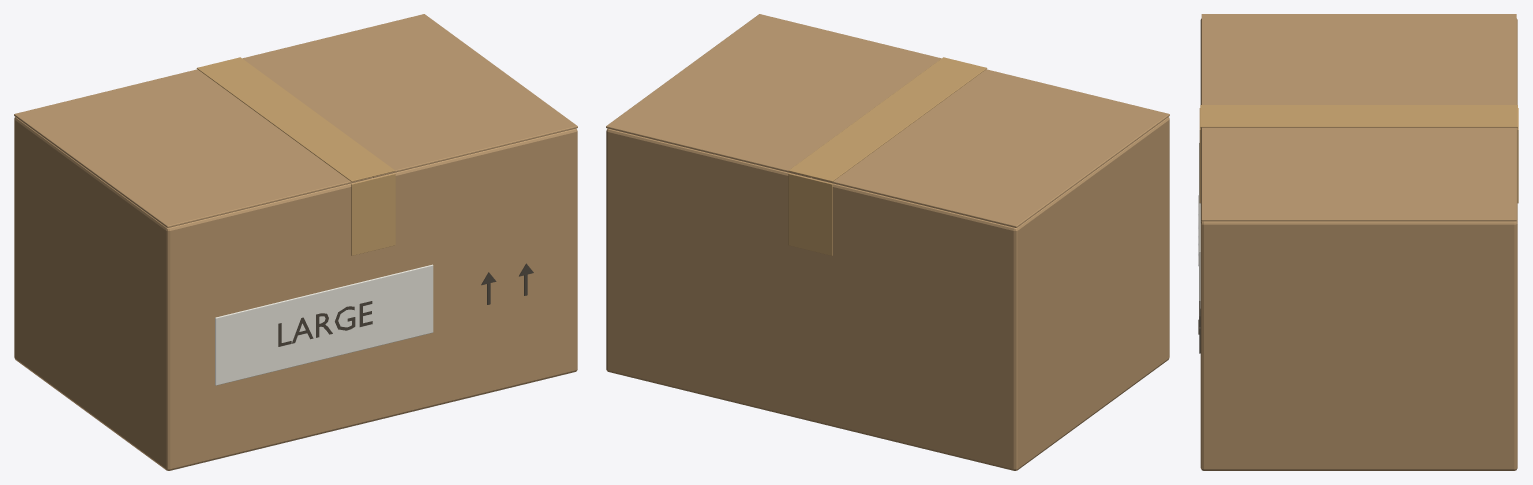
Rendered from box_large.glb.
3 views of the same model, side by side, from view 1: azimuth 30°, elevation 25°; view 2: azimuth 150°, elevation 25°; view 3: azimuth 270°, elevation 25° (orthographic). The views are drawn at different scales.
Parts seen in each view (by area): view 1: Large wide carton closed carton, Large wide carton top flap, Large wide carton top flap.001, Large wide carton shipping label, Large wide carton top tape, Large wide carton tape down side, Large wide carton size marking; view 2: Large wide carton closed carton, Large wide carton top flap, Large wide carton top flap.001, Large wide carton top tape, Large wide carton tape down side.001; view 3: Large wide carton closed carton, Large wide carton top flap.001, Large wide carton top flap, Large wide carton top tape.
Part boxes in pixels (x1,y1,x2,y2): Large wide carton closed carton: (14,117,577,470); Large wide carton top flap: (14,69,372,227); Large wide carton top flap.001: (242,14,577,177); Large wide carton shipping label: (215,264,433,385); Large wide carton top tape: (196,57,394,181); Large wide carton tape down side: (351,173,395,255); Large wide carton size marking: (278,301,372,346); Large wide carton closed carton: (606,117,1169,470); Large wide carton top flap: (811,69,1169,227); Large wide carton top flap.001: (606,14,941,177); Large wide carton top tape: (789,57,987,181); Large wide carton tape down side.001: (788,173,832,255); Large wide carton closed carton: (1200,18,1517,470); Large wide carton top flap.001: (1201,127,1516,221); Large wide carton top flap: (1201,14,1516,104); Large wide carton top tape: (1200,105,1517,127).
Bounding box in the file's own units: 0.6 × 0.3442 × 0.3946.
